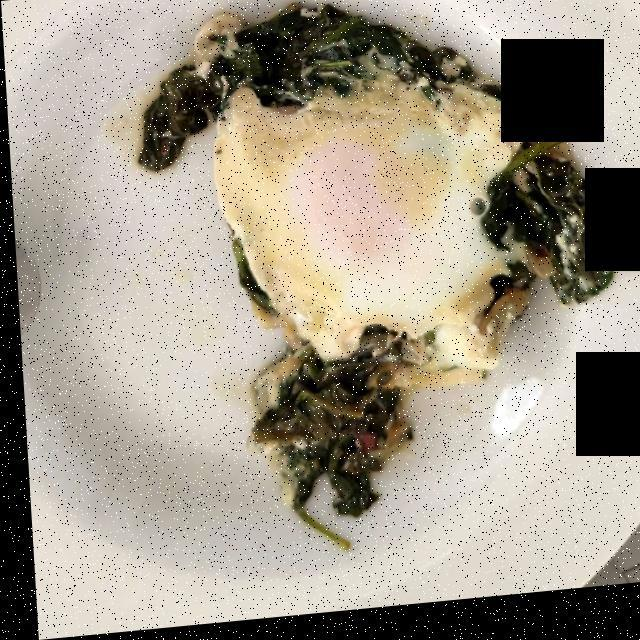egg: (217, 91, 544, 383)
spinach: (156, 25, 607, 312), (216, 152, 400, 513)
